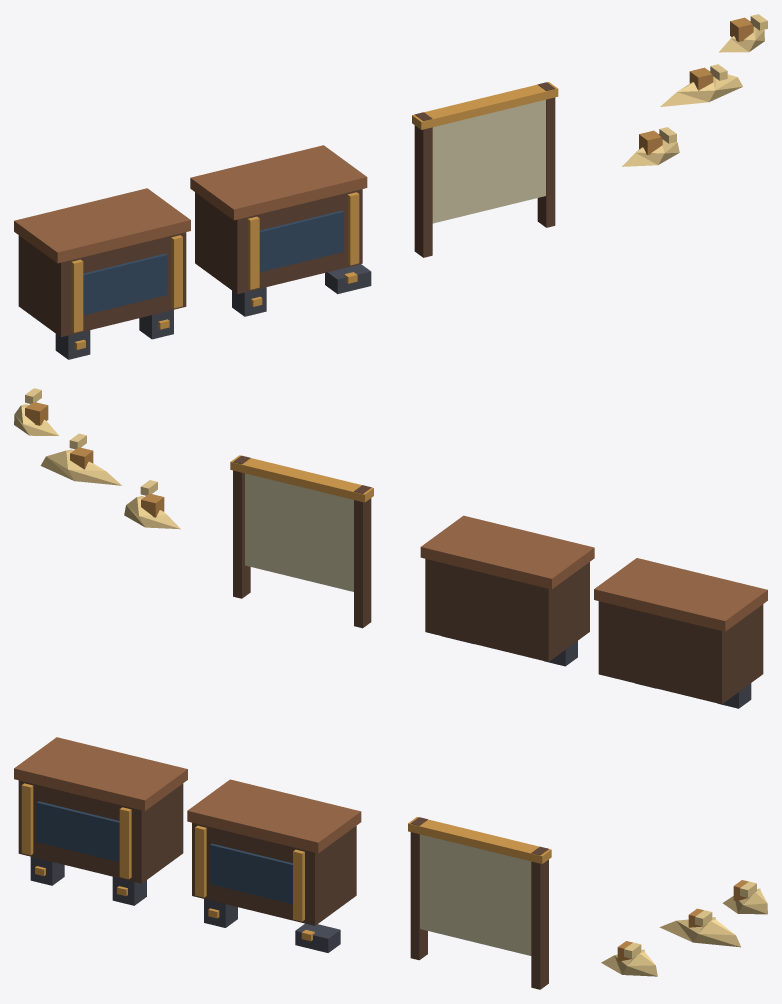
The model's file is fon-lyney-magic-model.obj.
The picture shows the model from 3 angles, top to bottom: view 1: azimuth 30°, elevation 25°; view 2: azimuth 150°, elevation 25°; view 3: azimuth 330°, elevation 25°; orthographic projection.
Visible parts, largest first — view 1: PocketTheater; view 2: PocketTheater; view 3: PocketTheater.
Part boxes in pixels (left/top/right/bottom): PocketTheater: left=14, top=14, right=767, bottom=359; PocketTheater: left=14, top=388, right=767, bottom=708; PocketTheater: left=14, top=737, right=767, bottom=989.
Size of the model in its own units: 6.36 by 1.26 by 0.715.
